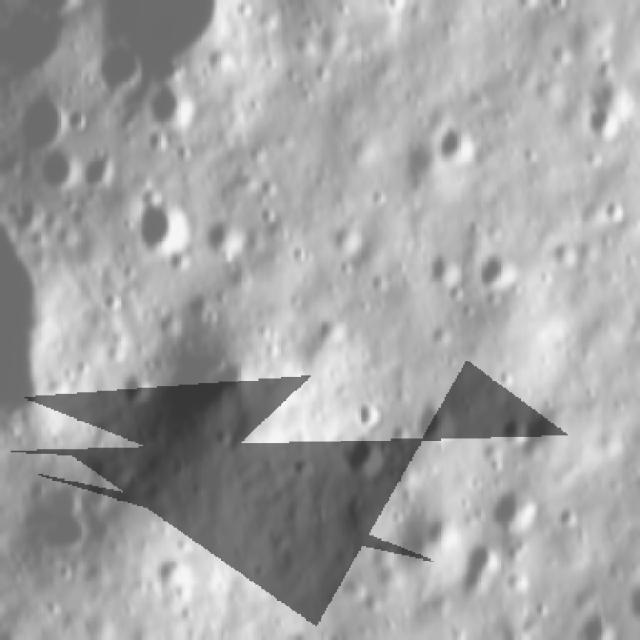crater: (12, 473, 91, 559), (14, 74, 74, 155), (82, 39, 152, 104), (128, 194, 194, 260), (484, 478, 547, 542), (410, 391, 468, 452), (474, 236, 528, 301), (140, 79, 202, 135), (457, 532, 509, 598), (336, 432, 399, 486), (431, 116, 487, 172), (30, 144, 81, 198), (416, 244, 466, 294), (81, 142, 128, 192), (203, 212, 251, 260), (110, 366, 158, 412), (584, 103, 630, 143), (312, 313, 352, 356), (494, 410, 532, 452), (349, 398, 385, 437), (598, 196, 631, 232), (554, 506, 583, 528)
